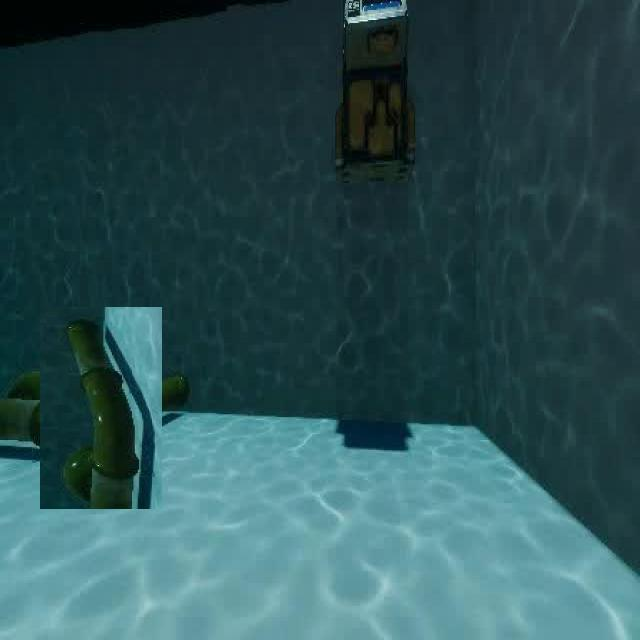Control Panel: (326, 1, 422, 194)
Pipe: (20, 328, 182, 490)
